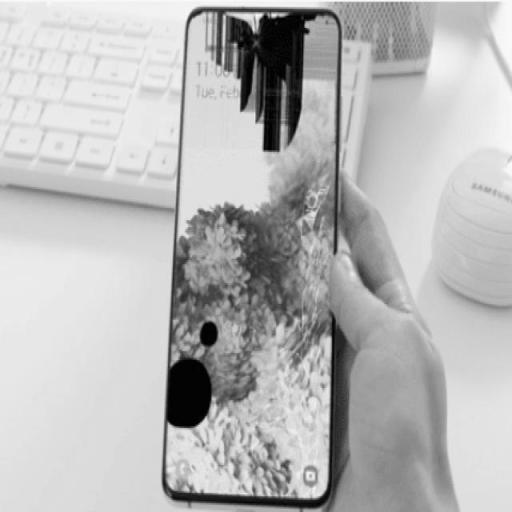phone: (159, 5, 359, 509)
